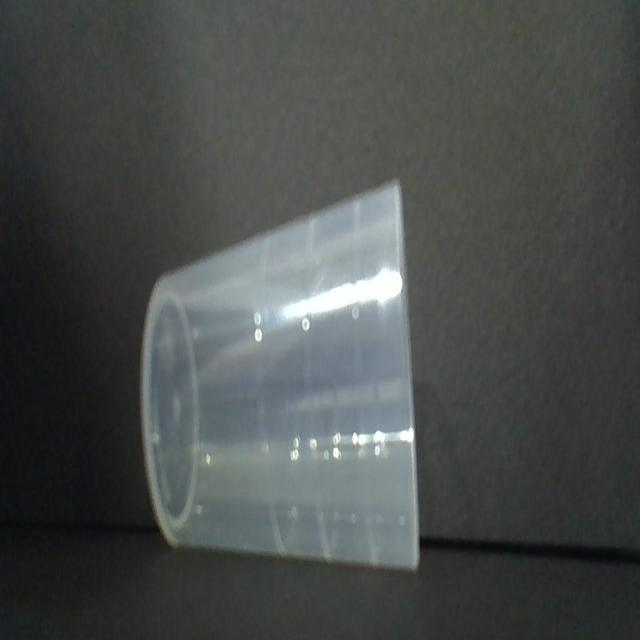cup: (136, 183, 422, 570)
